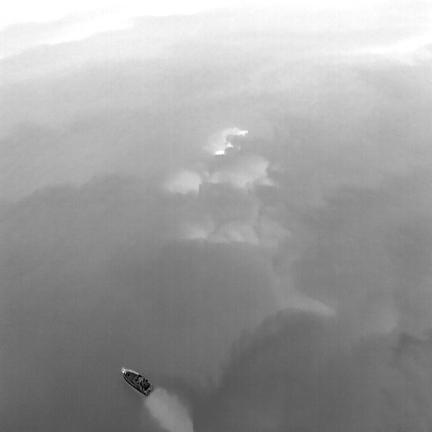flukeprints: (215, 149, 225, 155), (236, 130, 247, 135), (226, 142, 233, 148)
